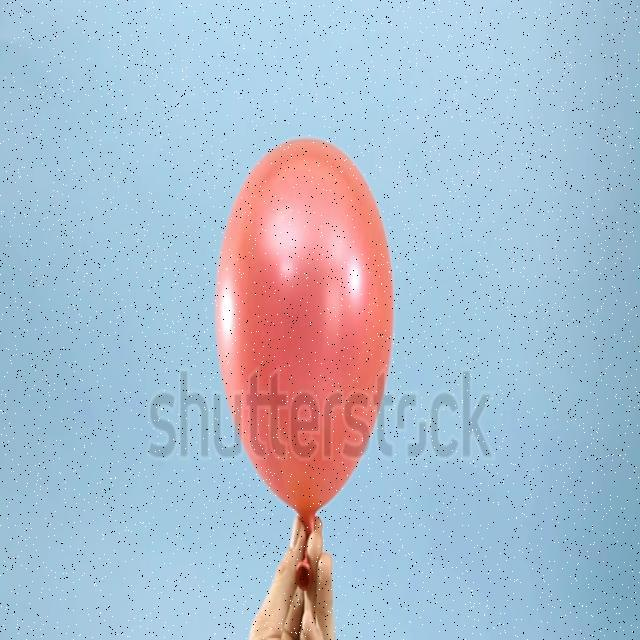red: (213, 136, 394, 531)
